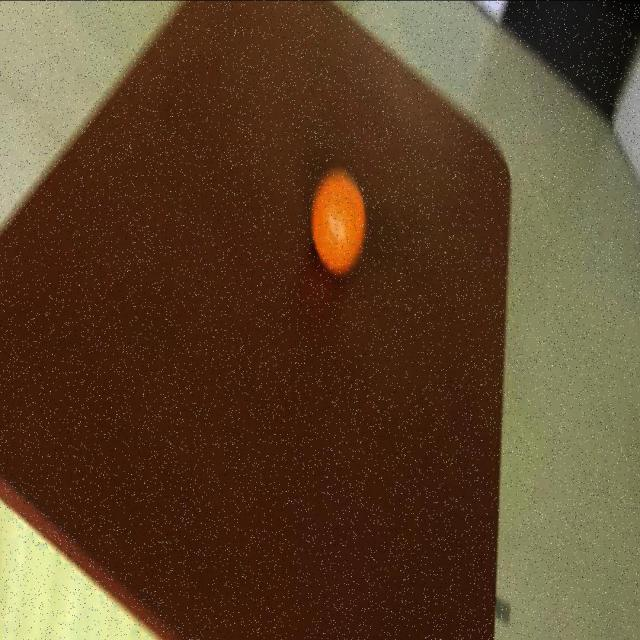Orange: (0, 0, 511, 640), (310, 168, 367, 277)
